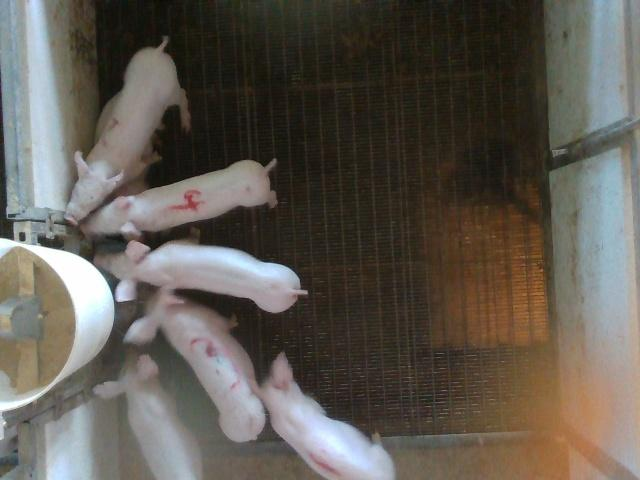pig-1: (261, 352, 395, 479)
pig-2: (65, 38, 190, 224)
pig-3: (124, 289, 265, 441)
pig-4: (80, 159, 278, 236)
